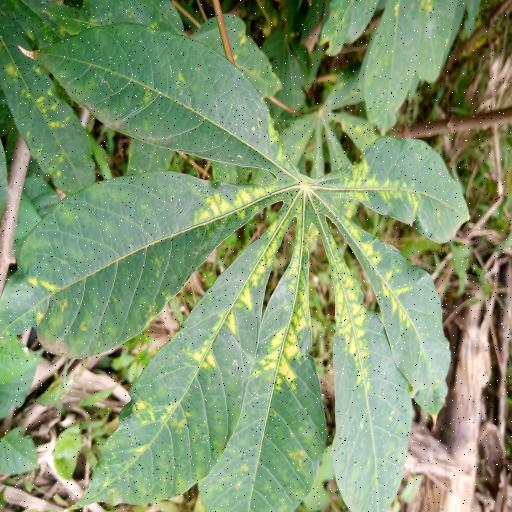Cassava_Mosaic: (27, 10, 469, 512)
